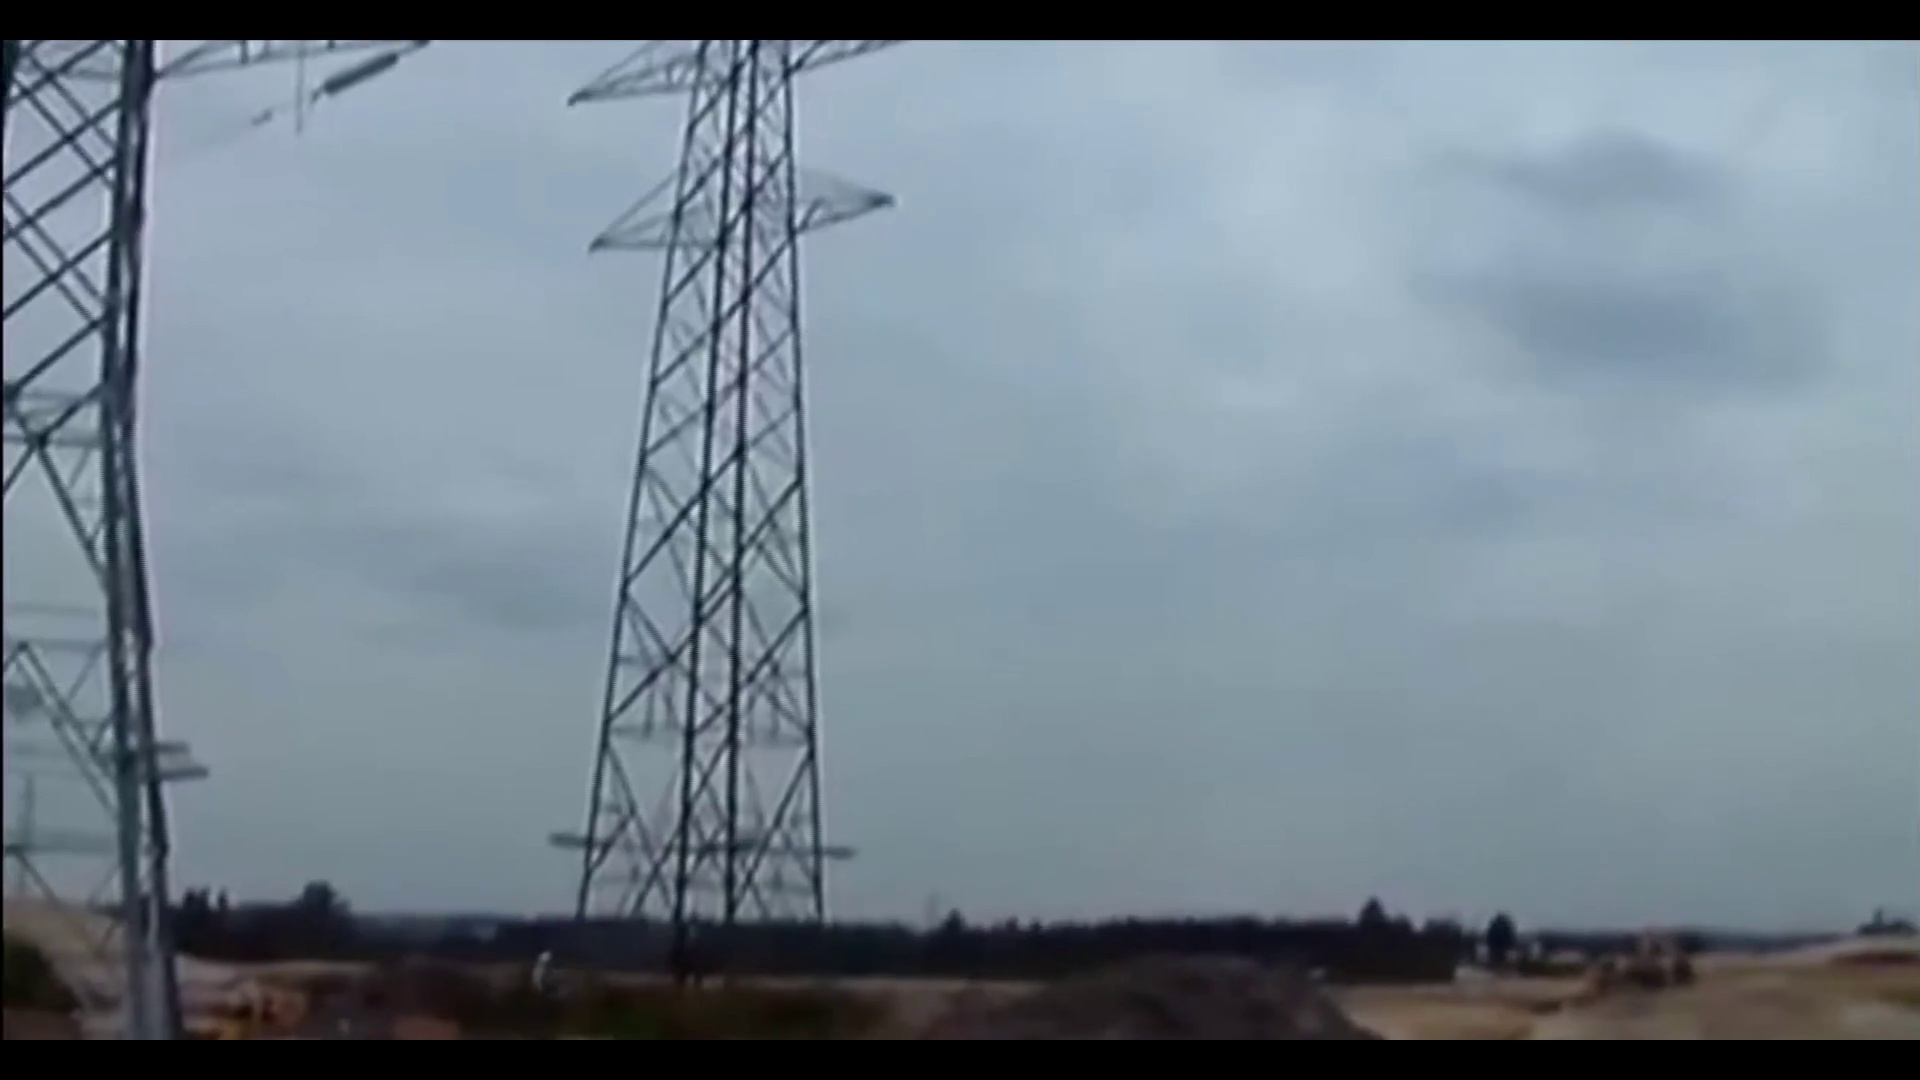tower_up: (512, 33, 938, 930)
